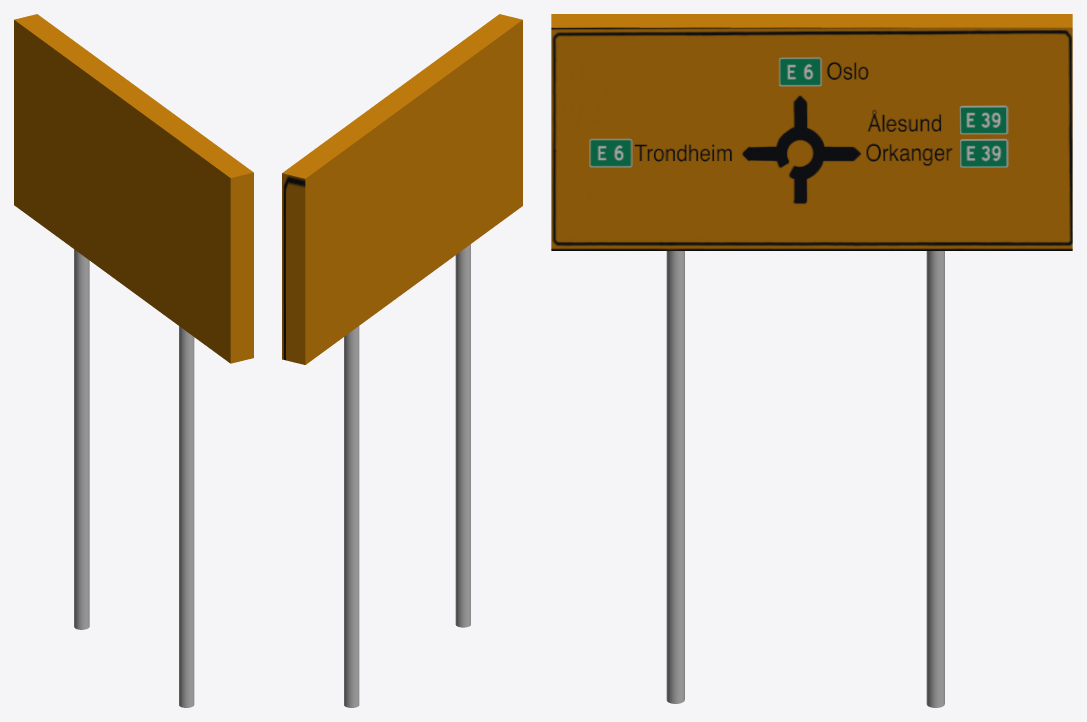
Rendered from veivisningskilt-rundkjøring.fbx.
3 views of the same model, side by side, from view 1: azimuth 30°, elevation 25°; view 2: azimuth 150°, elevation 25°; view 3: azimuth 270°, elevation 25° (orthographic). The views are drawn at different scales.
Parts seen in each view (by area): view 1: Cube, Traffikskilt.001, Traffikskilt.003; view 2: Cube, Traffikskilt.001, Traffikskilt.003; view 3: Cube, Traffikskilt.003, Traffikskilt.001.
Part boxes in pixels (bbox=[...]): Cube: bbox=[14, 14, 253, 363]; Traffikskilt.001: bbox=[179, 326, 194, 707]; Traffikskilt.003: bbox=[74, 249, 89, 629]; Cube: bbox=[282, 14, 522, 364]; Traffikskilt.001: bbox=[455, 244, 470, 627]; Traffikskilt.003: bbox=[344, 326, 359, 707]; Cube: bbox=[551, 14, 1072, 250]; Traffikskilt.003: bbox=[926, 251, 944, 707]; Traffikskilt.001: bbox=[666, 251, 684, 703].
Bounding box in the file's own units: 67.01 × 1564 × 1081.
